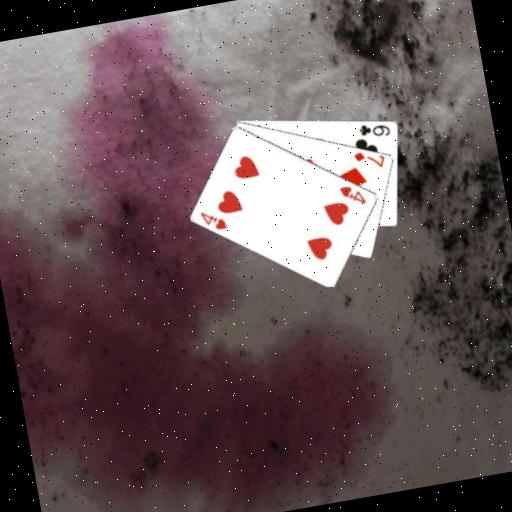4H: (336, 179, 368, 209), (197, 205, 229, 235)
6C: (354, 116, 392, 141)
7D: (350, 144, 388, 173)
